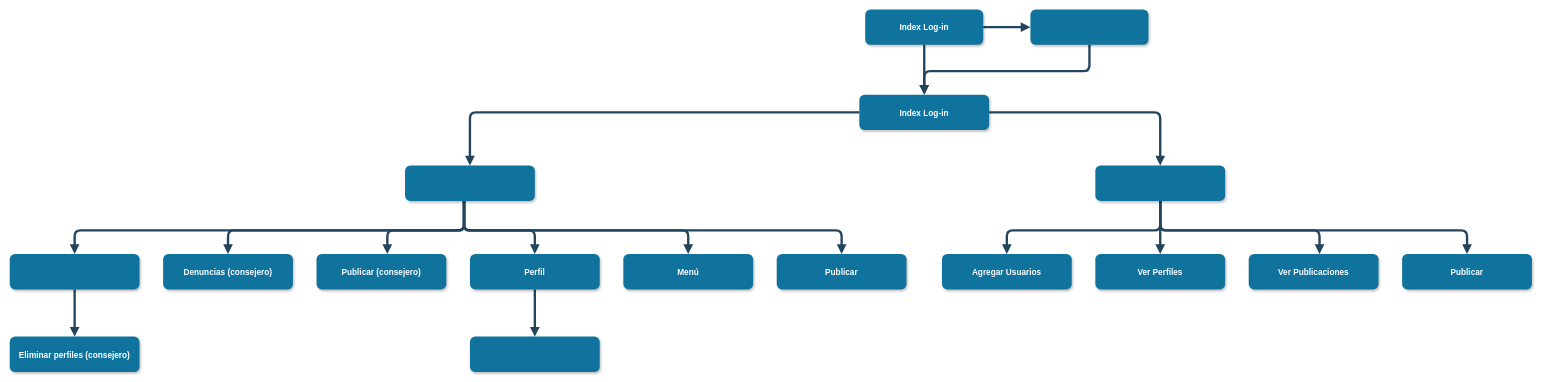
Some shapes in this 1542 by 382 pixel diagram are drawn without their labels. The shapes that lost their labels are listed below. From the top down, each one's centre as x and y in pixels, then its label:
At [1090,28]: "Registro".
At [470,184]: "Index Usuario".
At [1160,184]: "Index Administrador".
At [75,272]: "Ver perfiles (consejero)".
At [535,355]: "Eliminar cuenta".
